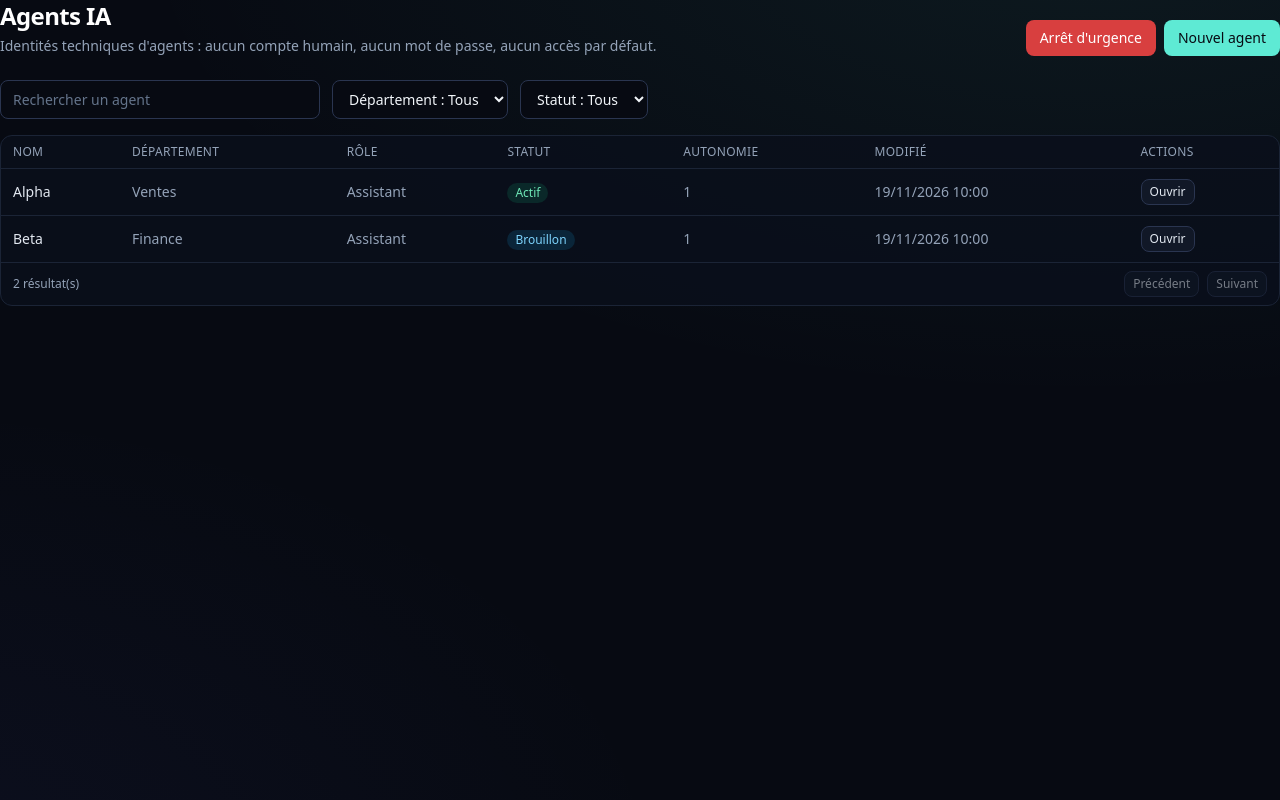
Test: AgentsView › création : envoie les champs et sépare les compétences
The width and height of the screenshot is (1280, 800).
Expected: the text "Alpha" is shown, [1,168,120,216]
Click the button "Nouvel agent" at (1222, 38), box [1164,20,1279,56]
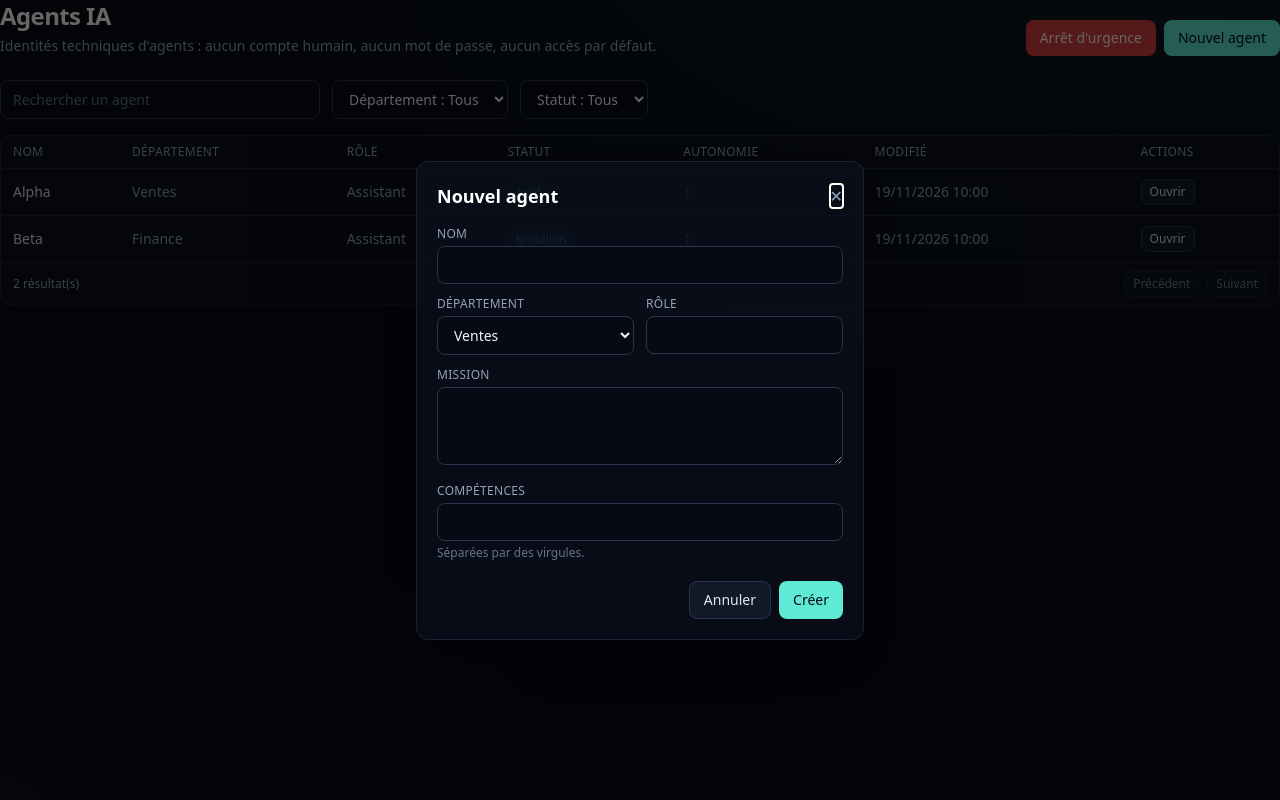
Type "Gamma" into the field labelled "Nom" at (640, 264), box [437,246,843,284]
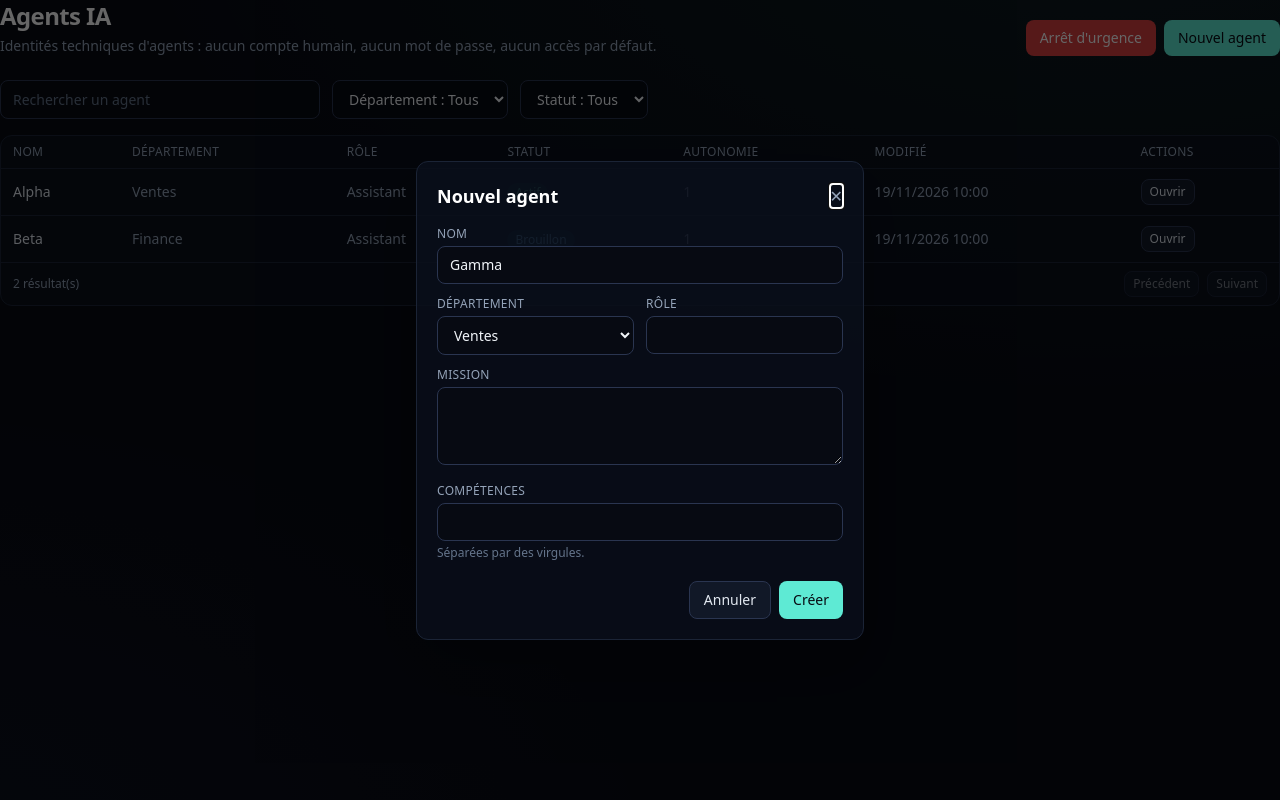
Type "Analyste" into the field labelled "Rôle" at (744, 334), box [646,316,843,354]
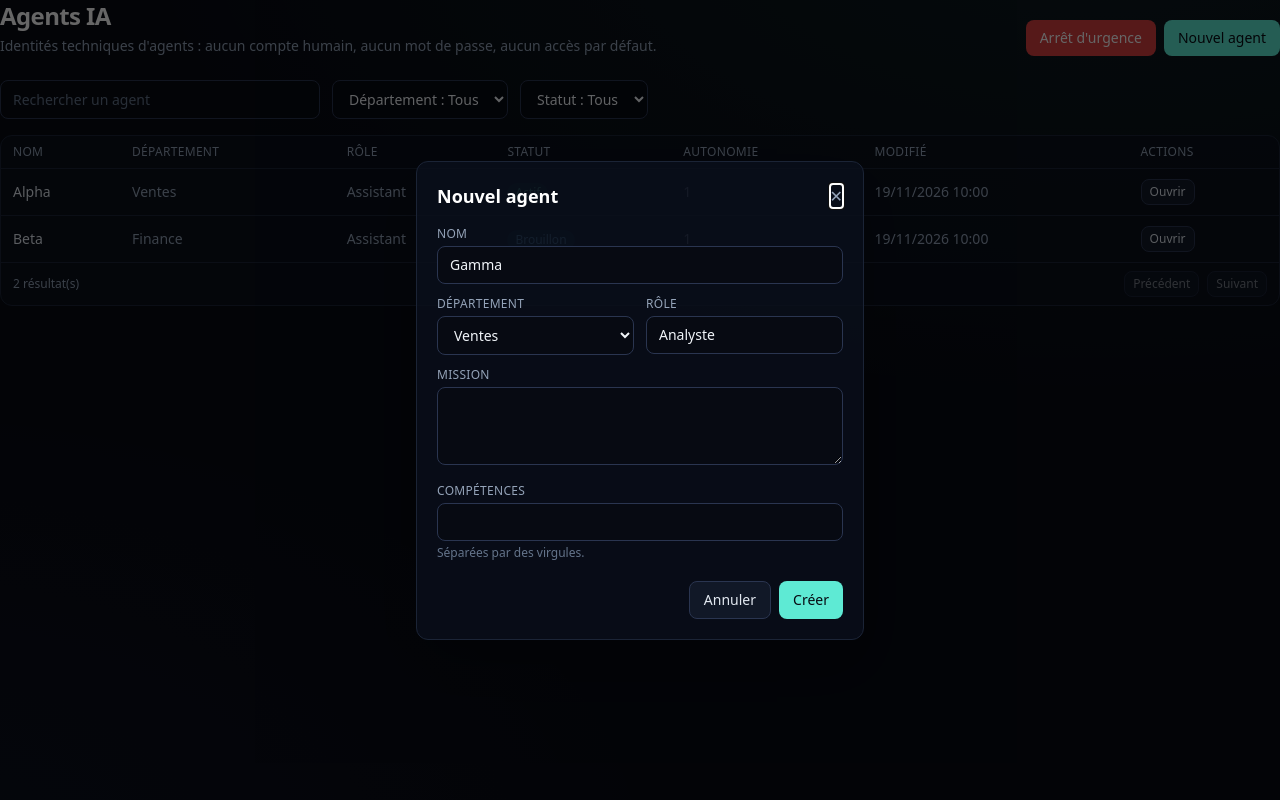
Type "Analyser" into the text box labelled "Mission" at (640, 426), box [437,386,843,464]
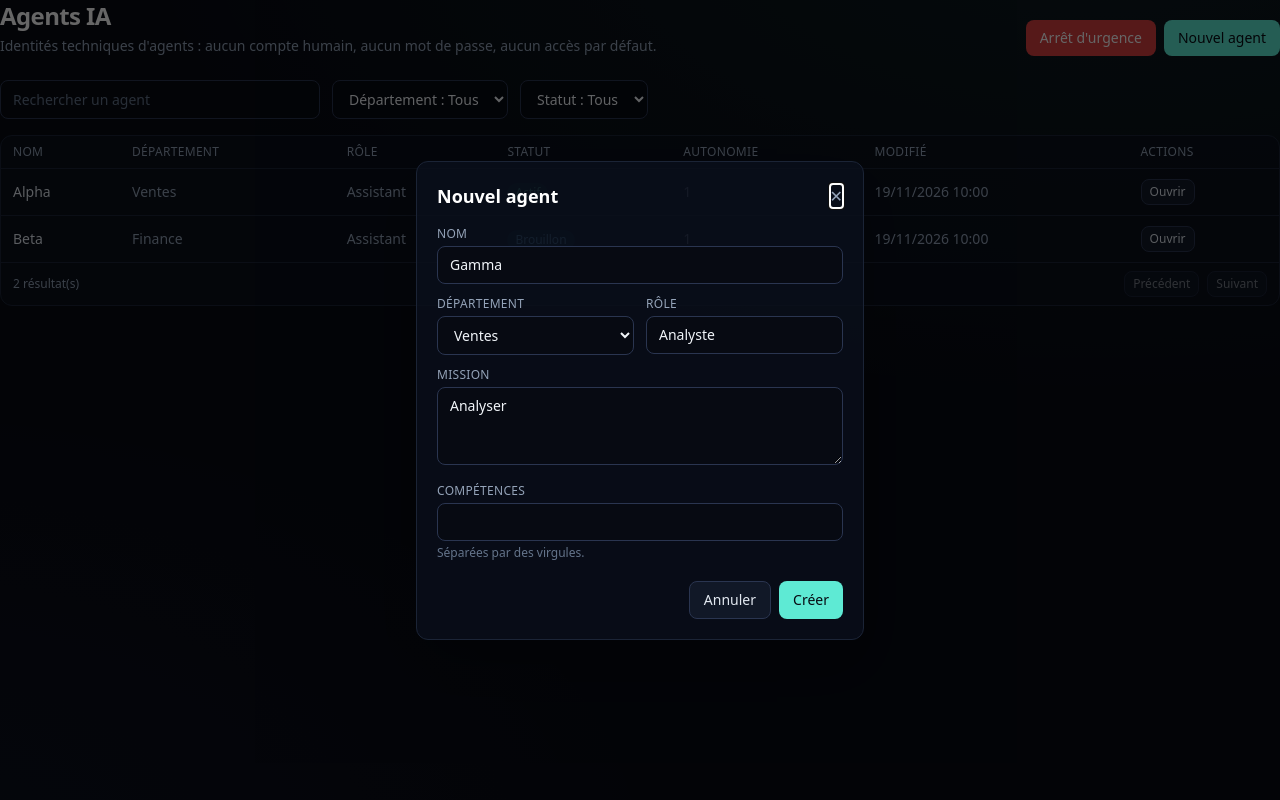
Type "a, b ,," into the field labelled "Compétences" at (640, 522), box [437,502,843,540]
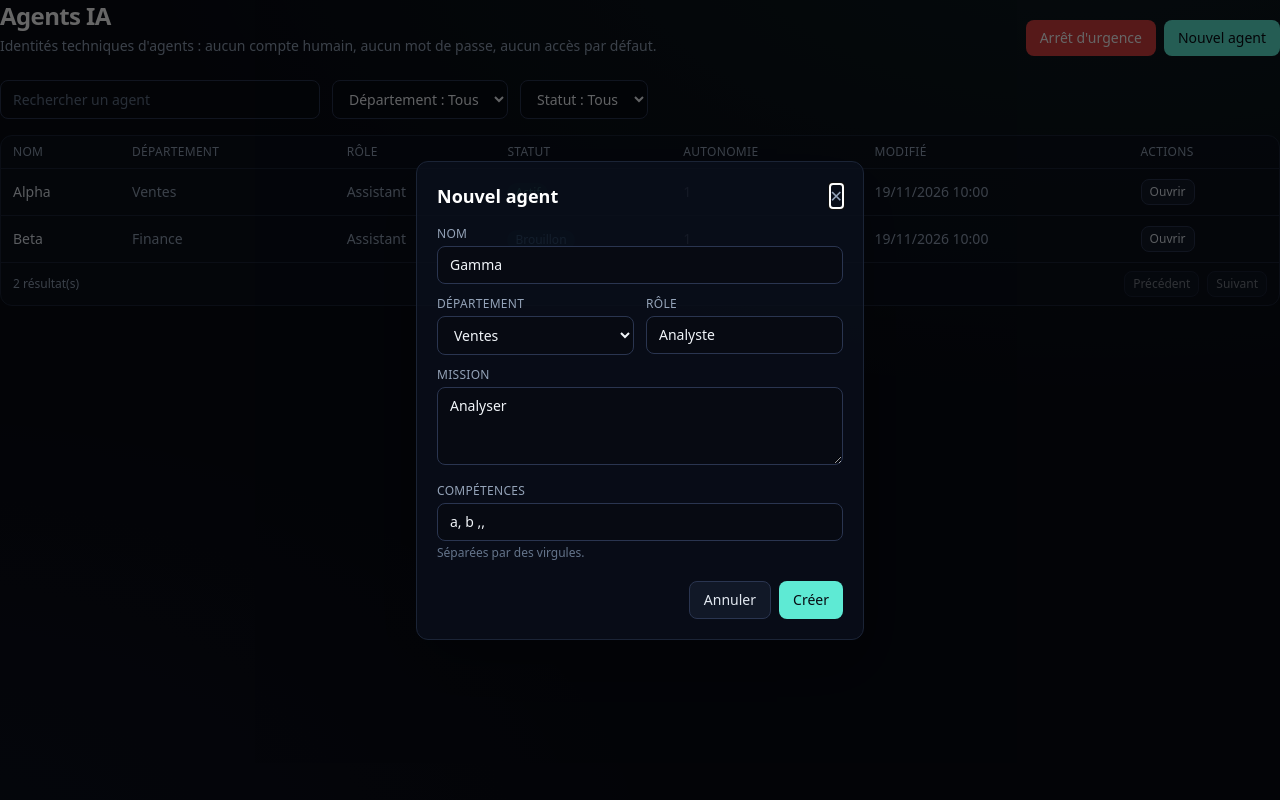
Click the button "Créer" at (811, 600), box [779,580,843,618]
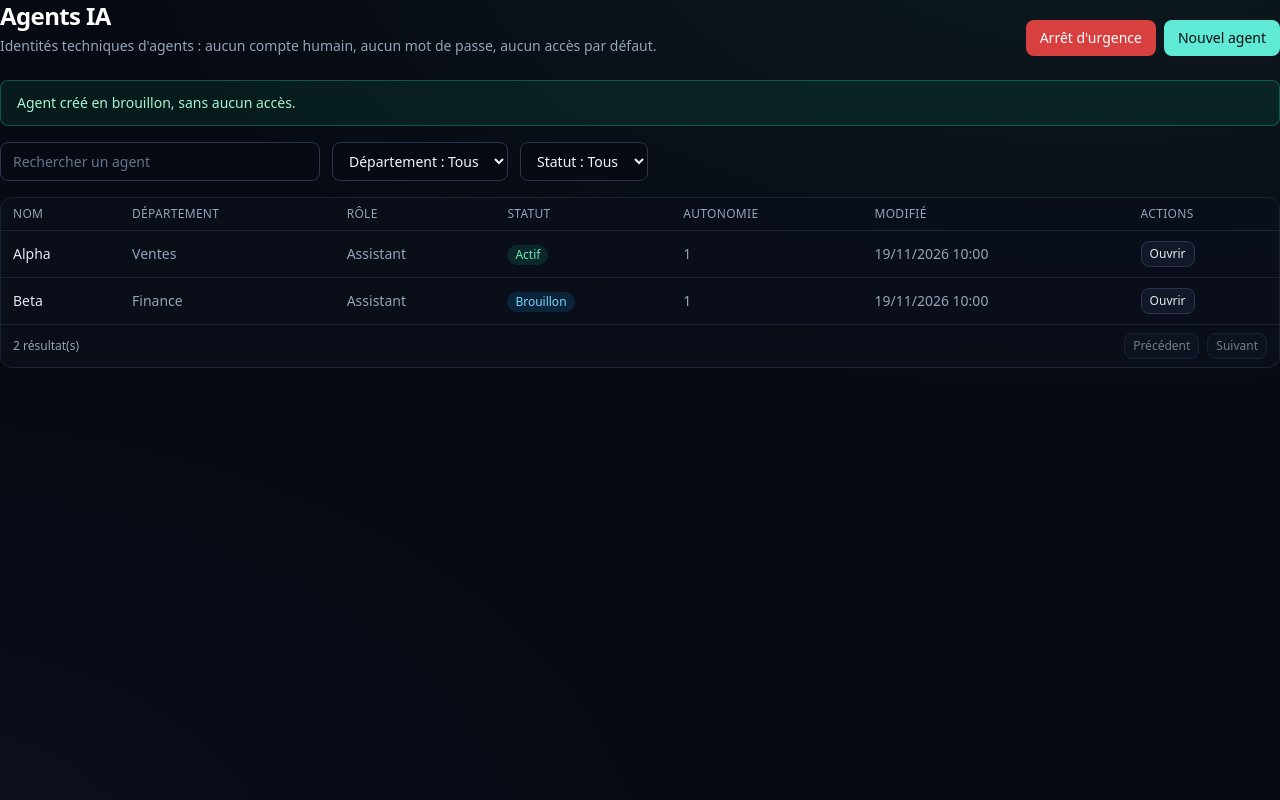
Expected: the text "Agent créé en brouillon, sans aucun accès." is shown, [0,80,1279,126]
